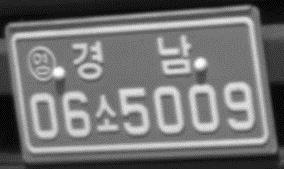0: (153, 83, 185, 135), (187, 83, 219, 135), (27, 91, 60, 140)
5: (116, 86, 151, 138)
6: (62, 88, 91, 140)
9: (222, 79, 256, 132)
경남_D: (70, 32, 192, 82)
소: (91, 93, 122, 134)
영: (26, 45, 58, 83)
